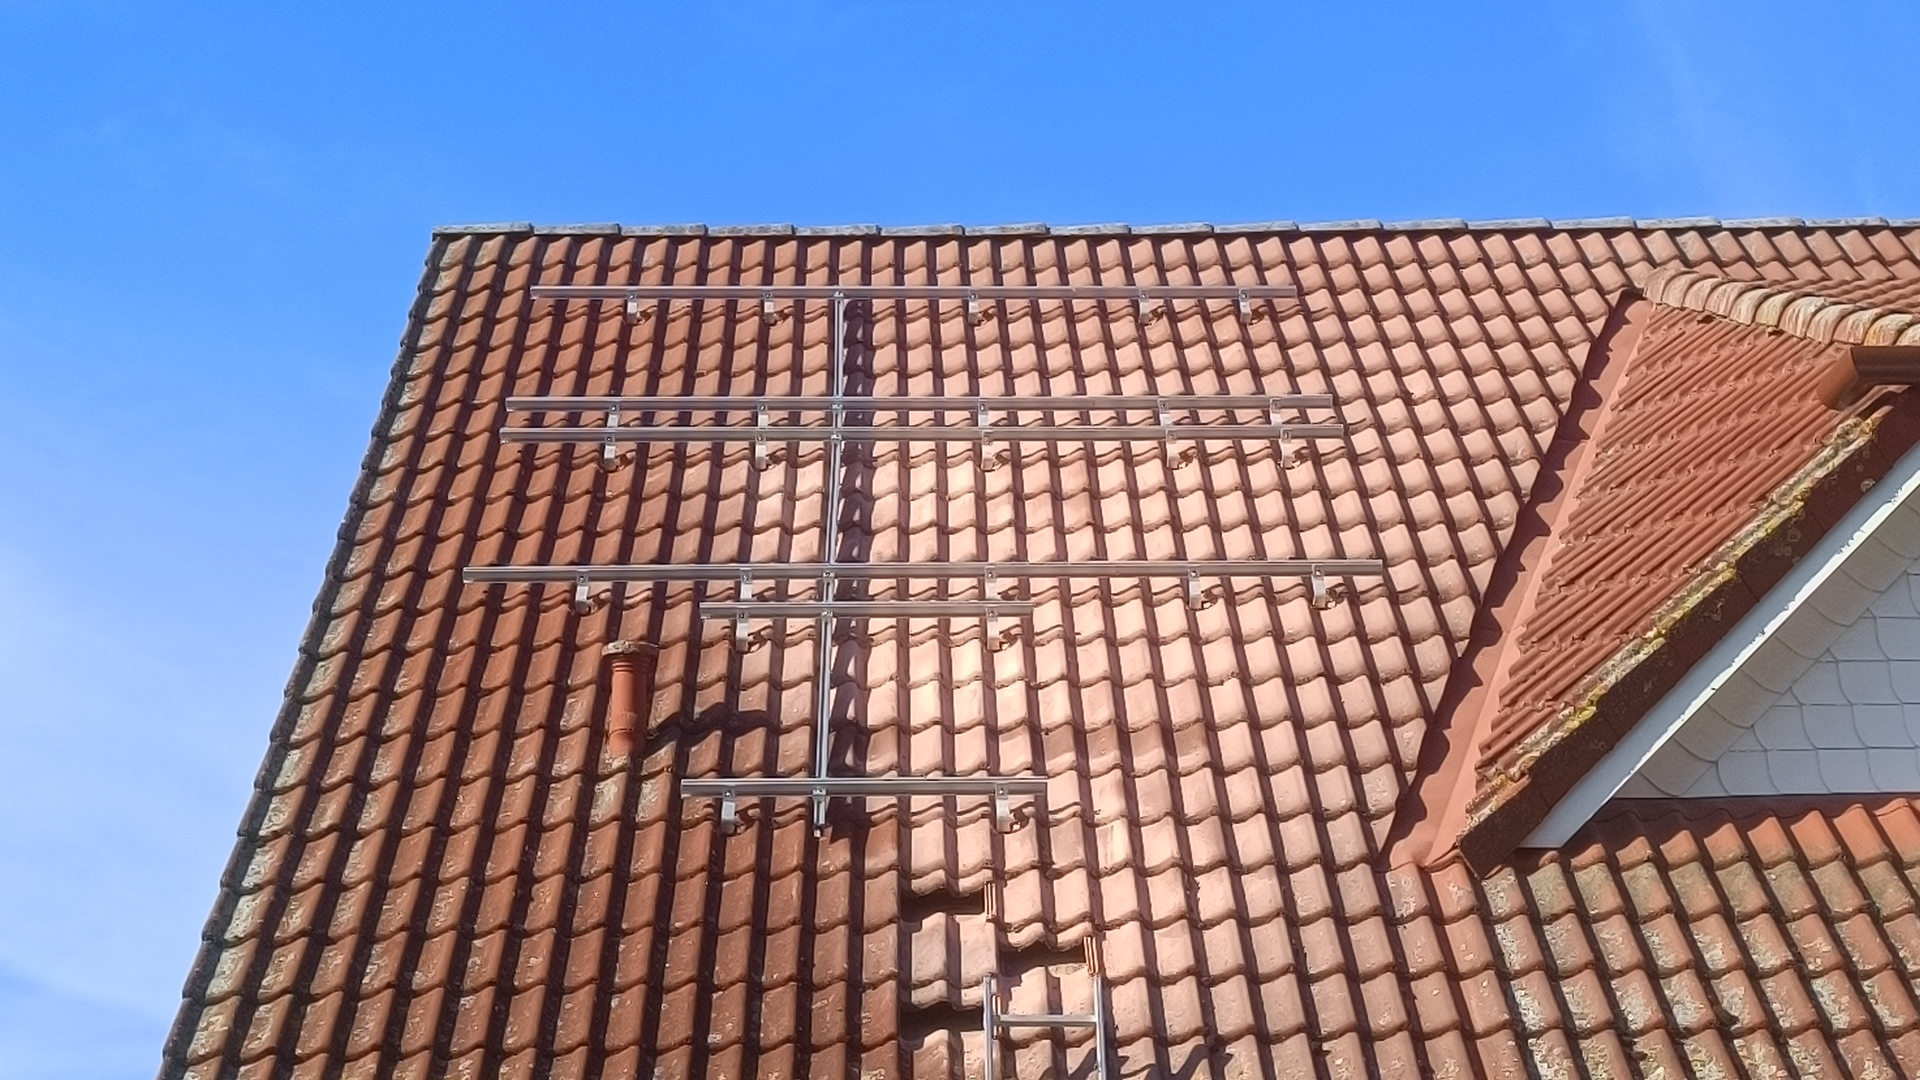hook: (996, 782, 1011, 831), (1311, 563, 1327, 608), (575, 568, 589, 616), (1278, 429, 1294, 469), (721, 786, 735, 835), (985, 607, 1000, 650), (736, 608, 749, 654), (981, 430, 996, 471), (1188, 564, 1201, 609), (603, 433, 617, 471), (1166, 429, 1179, 469), (740, 567, 753, 601), (985, 566, 998, 600), (1240, 287, 1251, 324), (1156, 400, 1172, 426), (764, 290, 775, 324), (626, 287, 637, 324), (756, 433, 766, 469), (1269, 398, 1283, 425), (968, 289, 978, 324), (1138, 289, 1149, 324), (977, 400, 990, 427), (607, 404, 618, 429), (757, 400, 767, 427)
